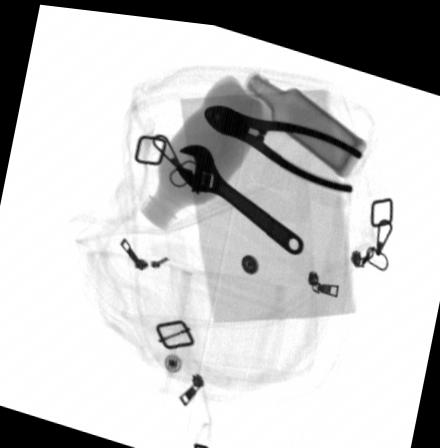Pliers: (201, 96, 364, 184)
Wrench: (173, 137, 303, 247)
